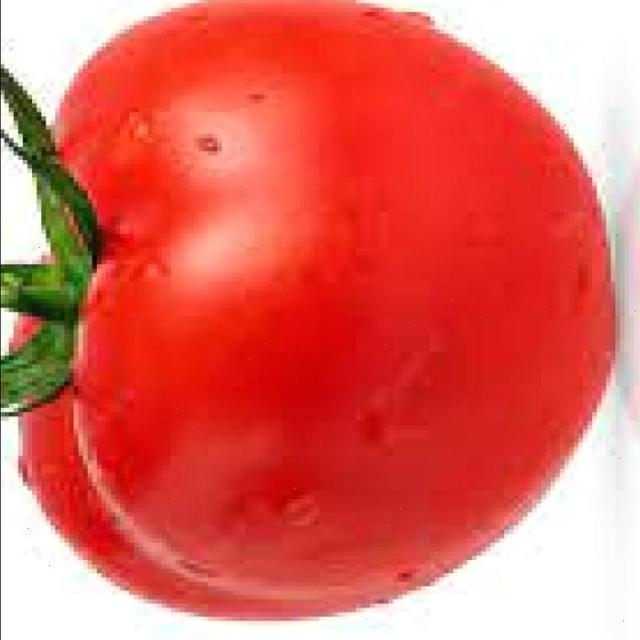Healthy Fruit: (8, 3, 419, 427)
